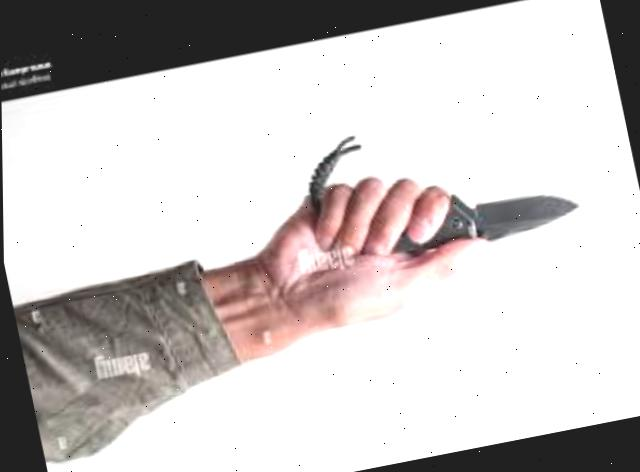pocket-knife: (260, 135, 585, 286)
